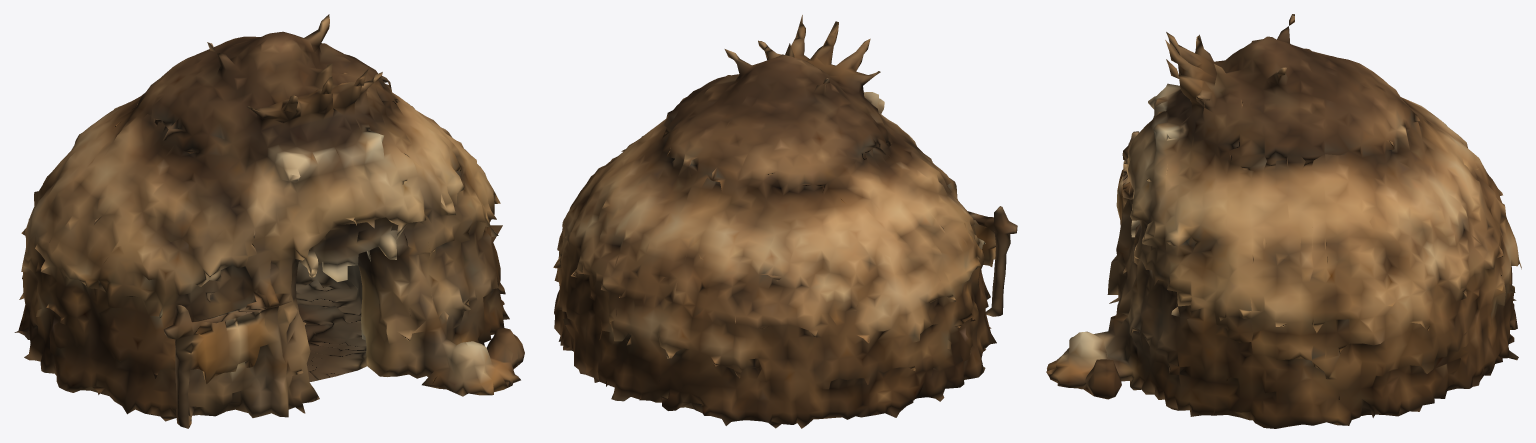
File: zahnhaus.glb
3 views of the same model, side by side, from view 1: azimuth 30°, elevation 25°; view 2: azimuth 150°, elevation 25°; view 3: azimuth 270°, elevation 25° (orthographic). The views are drawn at different scales.
Size of the model in its own units: 1.85 by 1.25 by 1.85.
